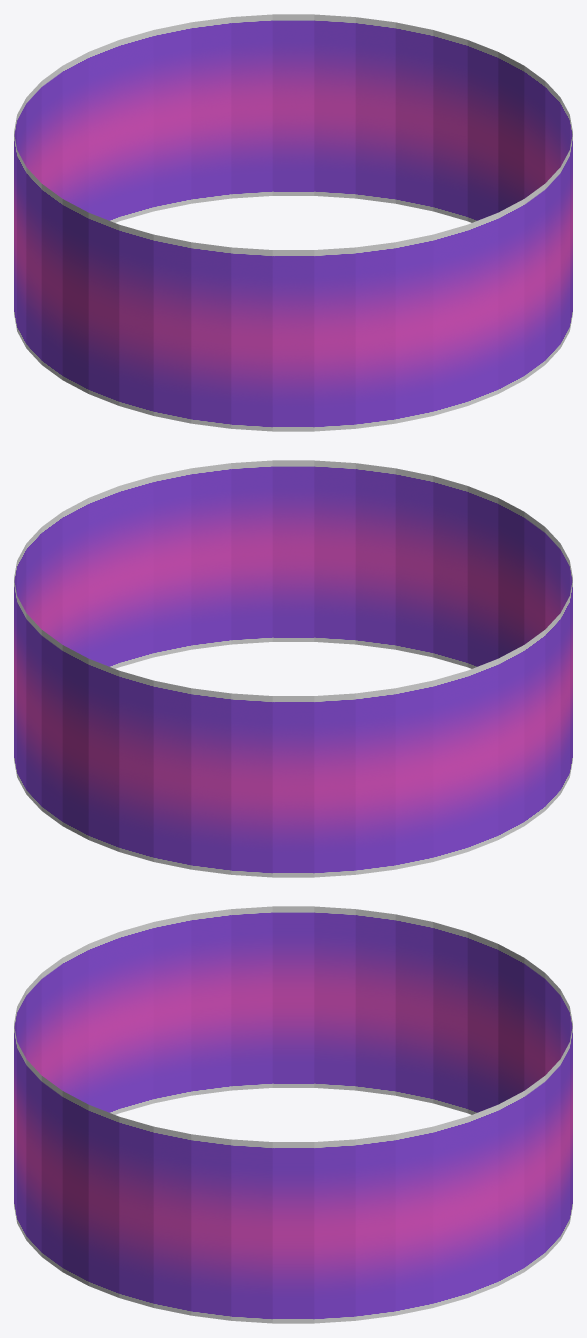
The model's file is bubble-v1.fbx.
3 renders of one model, top to bottom at view 1: azimuth 30°, elevation 25°; view 2: azimuth 150°, elevation 25°; view 3: azimuth 270°, elevation 25°, orthographic.
Visible parts, largest first — view 1: Cylinder; view 2: Cylinder; view 3: Cylinder.
Boxes of the visible parts, <box> form: Cylinder: <box>14,14,572,431</box>; Cylinder: <box>14,460,572,877</box>; Cylinder: <box>14,906,572,1323</box>.
Bounding box in the file's own units: 203 × 72.98 × 204.
1 material, 1 textured.
